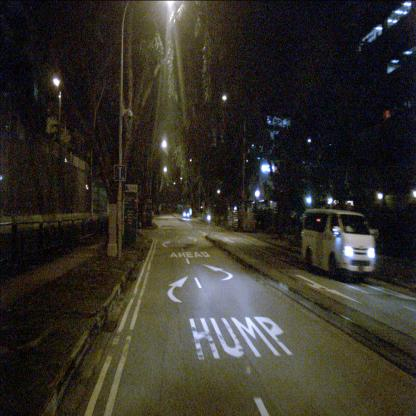vehicle-car: (300, 209, 377, 284), (182, 210, 190, 218)
vehicle-motorcycle: (206, 211, 211, 225)
